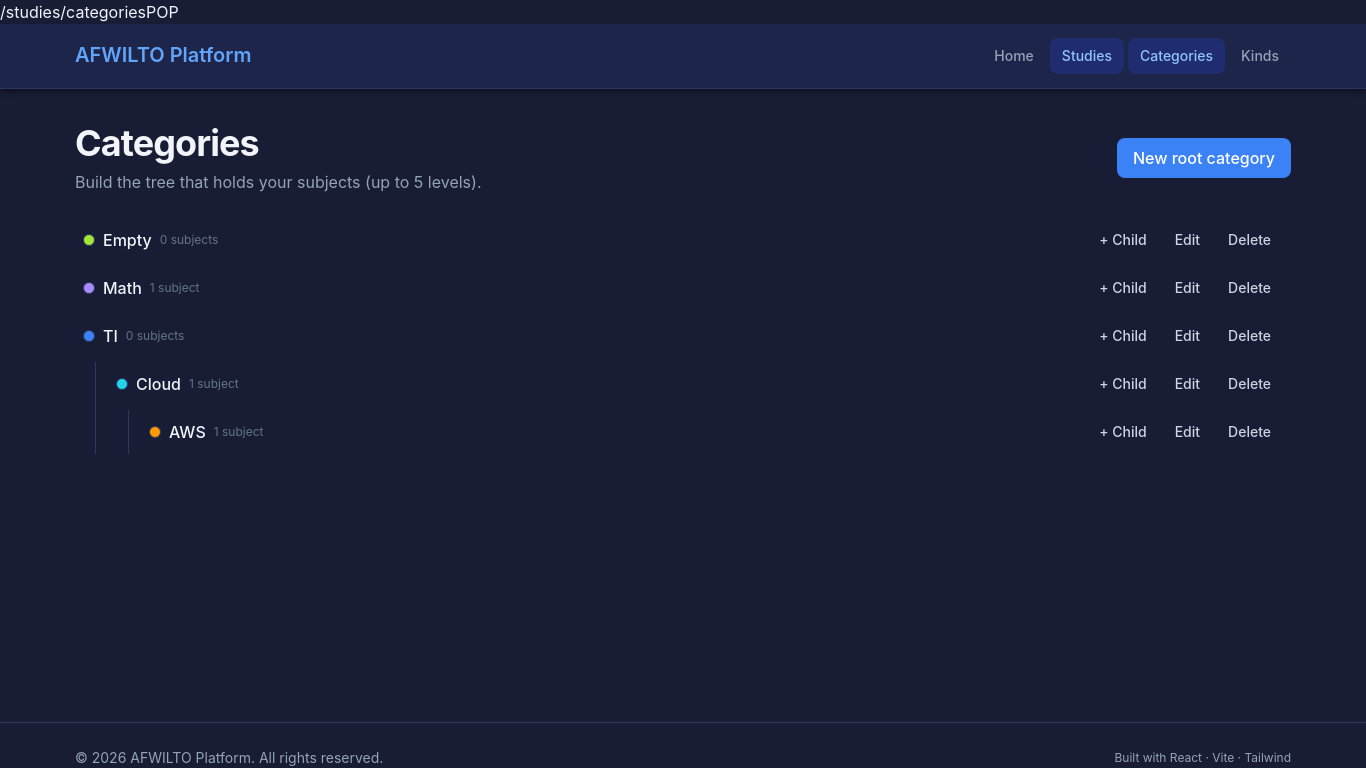
Test: CategoriesPage — delete (AC-F11, S09a-7) › deletes an empty category, which leaves the tree
expect the heading "Categories" is shown: met, box top-left (75, 121), bottom-right (259, 165)
expect the text "AWS" is shown: met, box top-left (169, 420), bottom-right (206, 444)
Click the button with aria-label "Delete Empty".
click(1250, 240)  # box top-left (1216, 224), bottom-right (1283, 256)
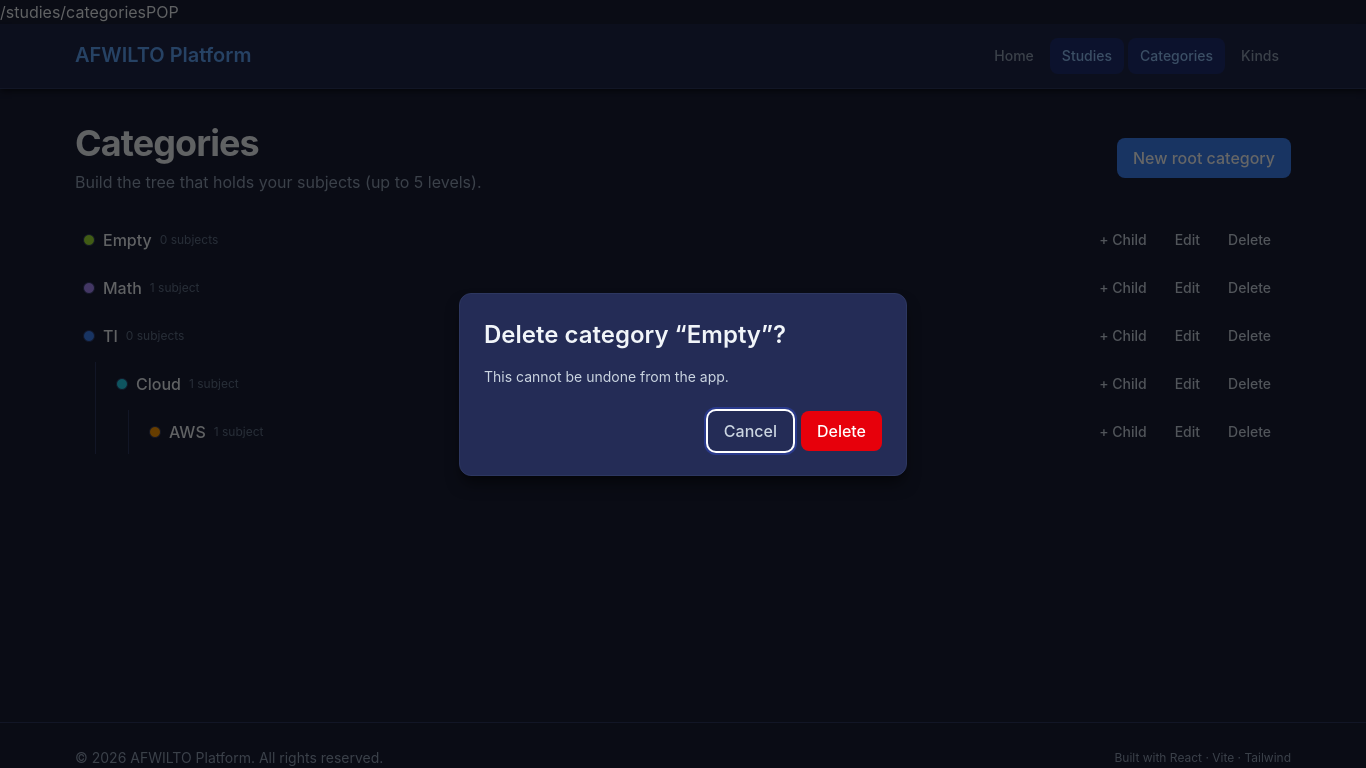
expect the text "This cannot be undone from the app." is shown: met, box top-left (484, 368), bottom-right (729, 384)
Click the button "Delete".
click(841, 430)  # box top-left (801, 410), bottom-right (882, 450)
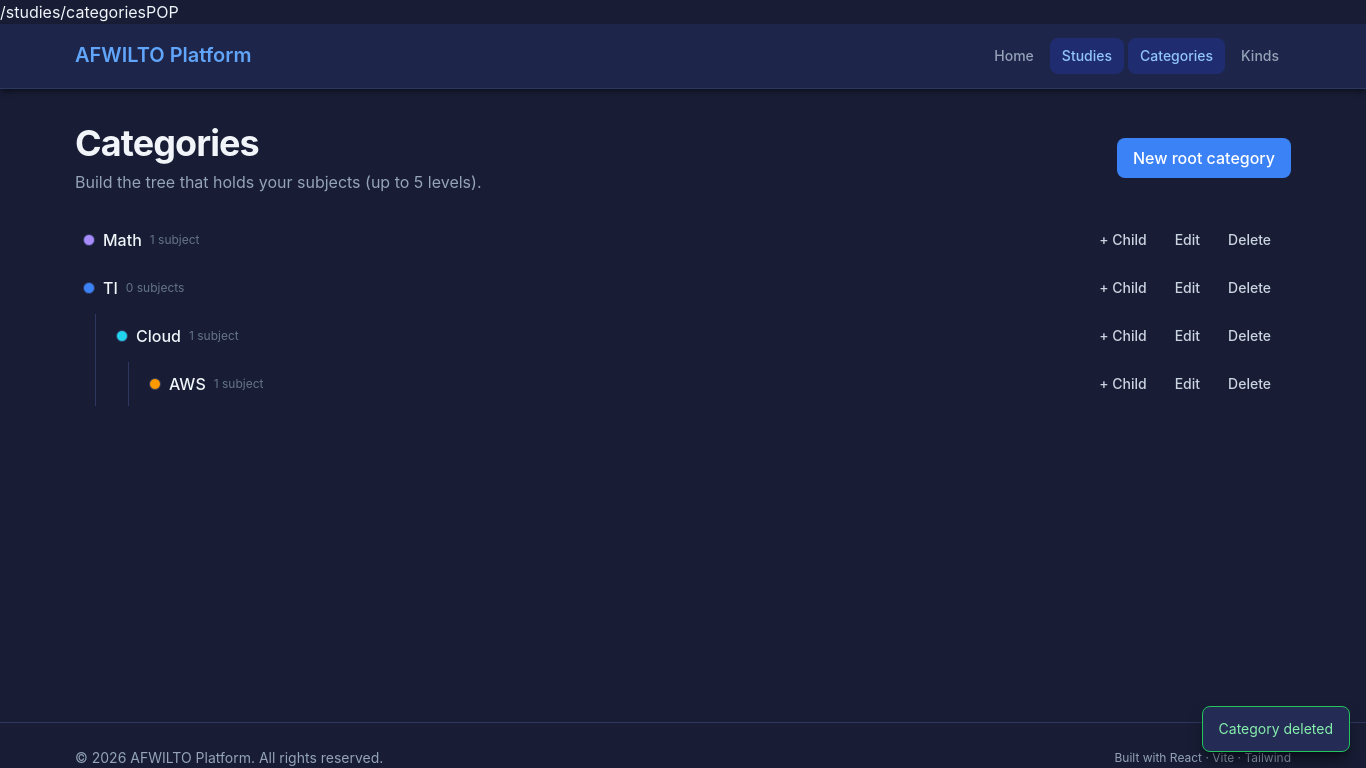
expect the text "Category deleted" is shown: met, box top-left (1202, 706), bottom-right (1350, 752)
expect the text "Empty" is gone: met
